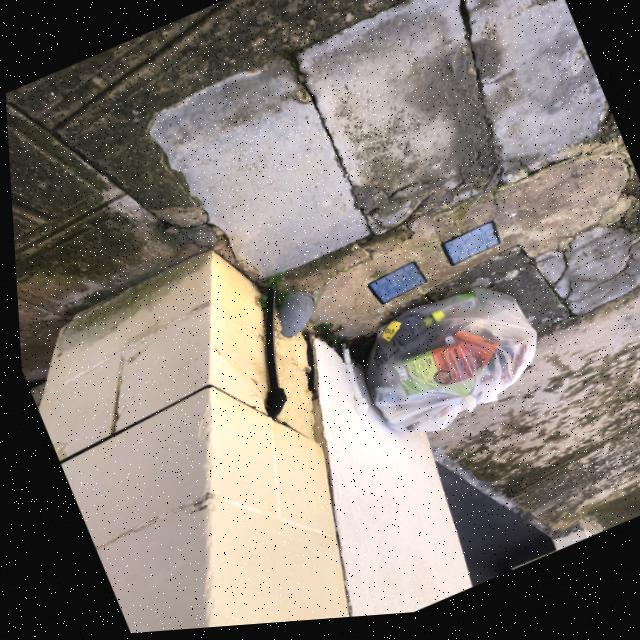Recycled Waste -Grey or Green Bag-: (339, 271, 554, 458)
